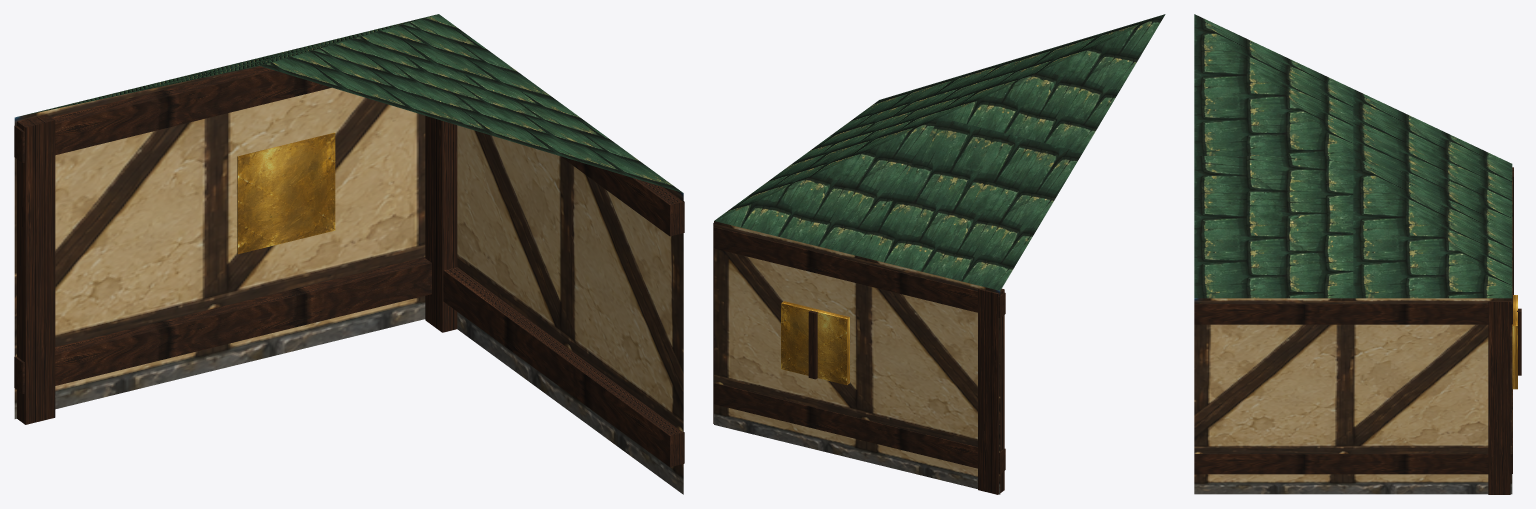
File: SmartHouseOuter.fbx
The picture shows the model from 3 angles, left to right: view 1: azimuth 30°, elevation 25°; view 2: azimuth 150°, elevation 25°; view 3: azimuth 270°, elevation 25°; orthographic projection. The views are drawn at different scales.
Parts seen in each view (by area): view 1: SmartHouseOuter; view 2: SmartHouseOuter; view 3: SmartHouseOuter.
Part boxes in pixels (left/top/right/bottom): SmartHouseOuter: left=14, top=14, right=684, bottom=494; SmartHouseOuter: left=713, top=14, right=1165, bottom=494; SmartHouseOuter: left=1194, top=14, right=1521, bottom=494.
Size of the model in its own units: 100 by 120 by 103.
